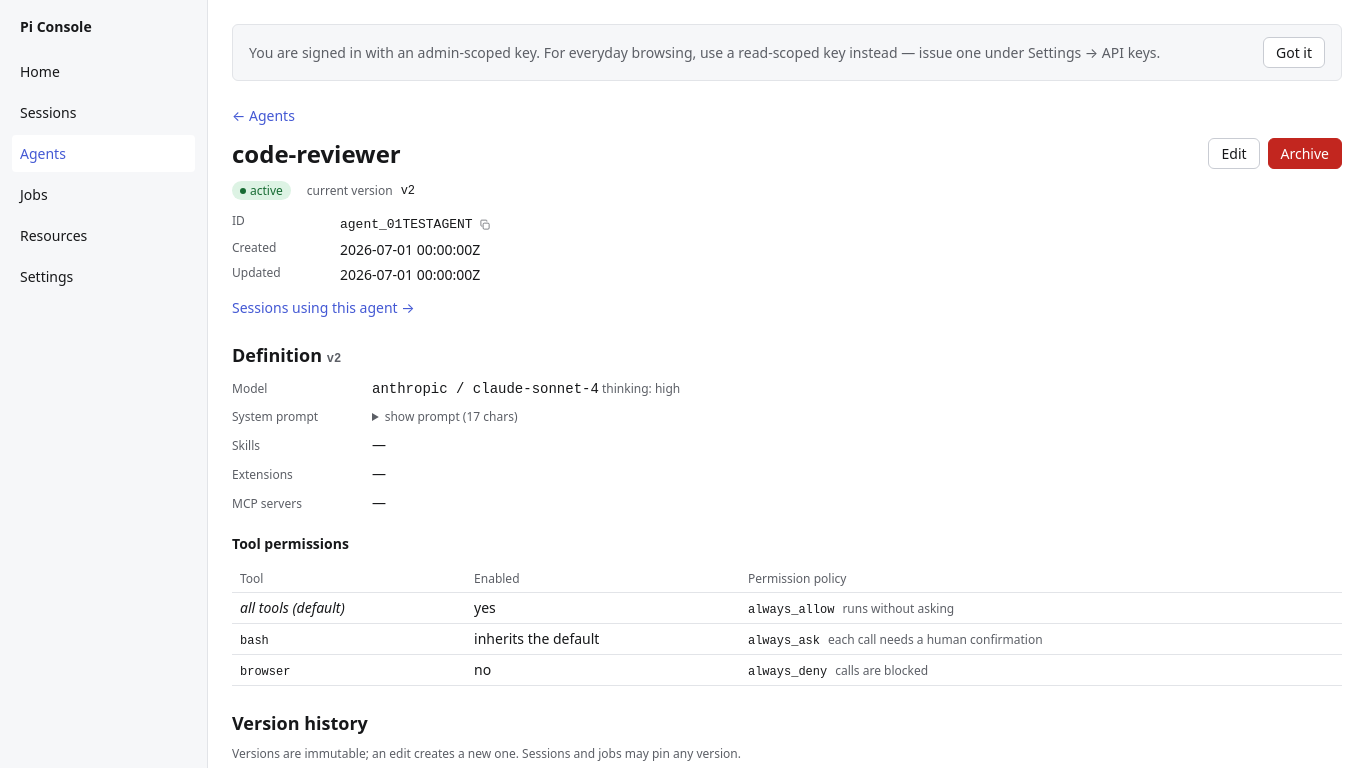
Scenario: agent detail (§9.1, W10/W16) › archive: DP-7 dialog names the real consequence — the count of scheduled jobs auto-archived
Expected: the heading "code-reviewer" is shown, [232,138,401,169]
Step 1. Click the button "Archive" → click(1305, 154), box [1268,138,1342,169]
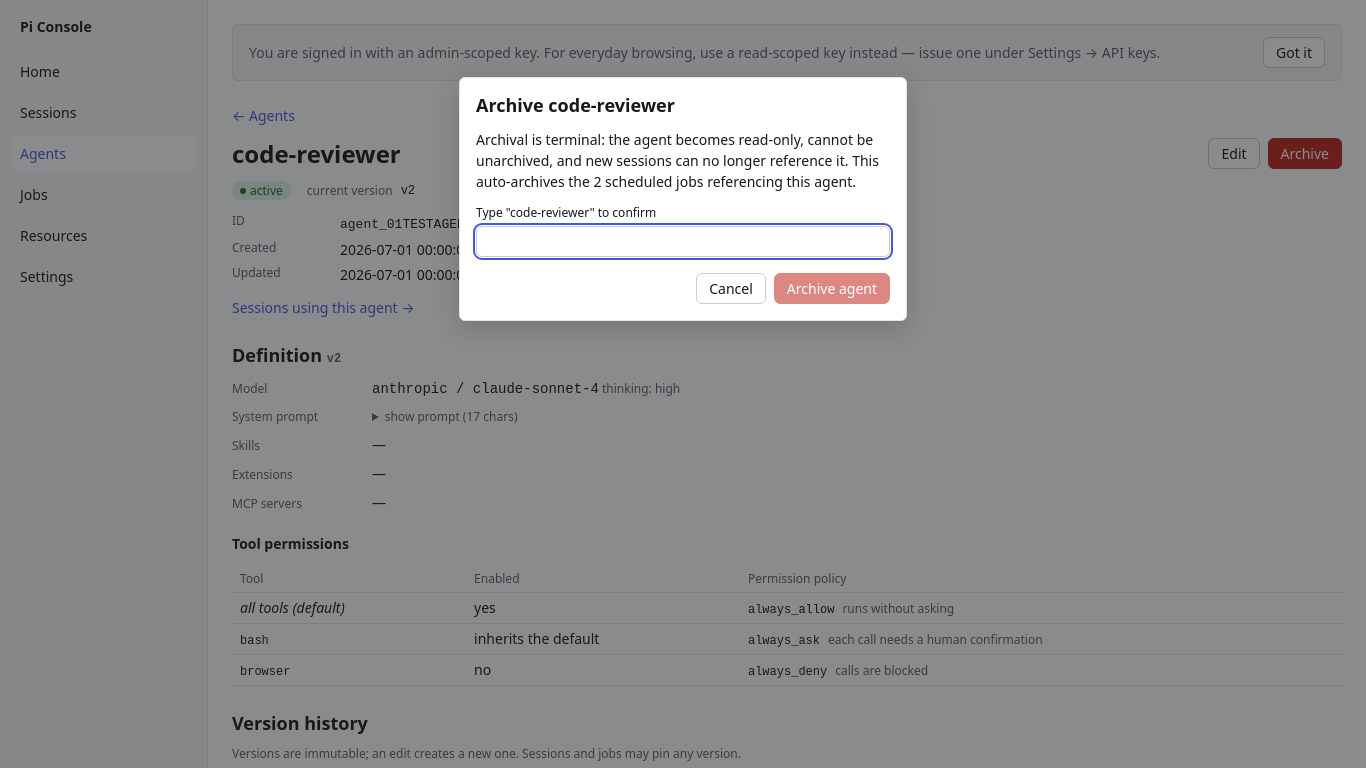
Now the text "Archival is terminal" is shown, box [476,130,879,191]
Now the button "Archive agent" is disabled, box [774,273,890,304]
Step 2. Type "code-reviewer" into the field labelled "Type \"code-reviewer\" to confirm" → (683, 242), box [476,226,890,257]
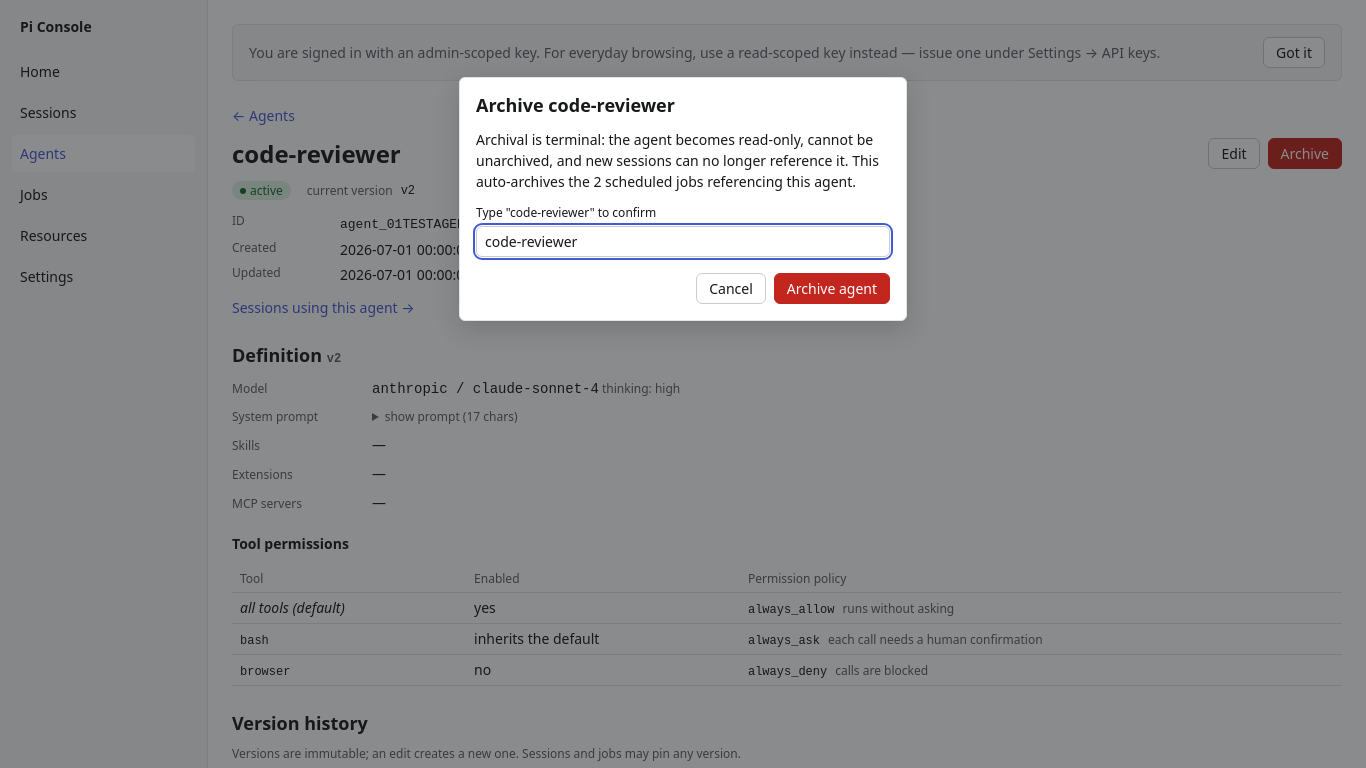
Now the button "Archive agent" is enabled
Step 3. Click the button "Archive agent" → click(832, 289), box [774,273,890,304]
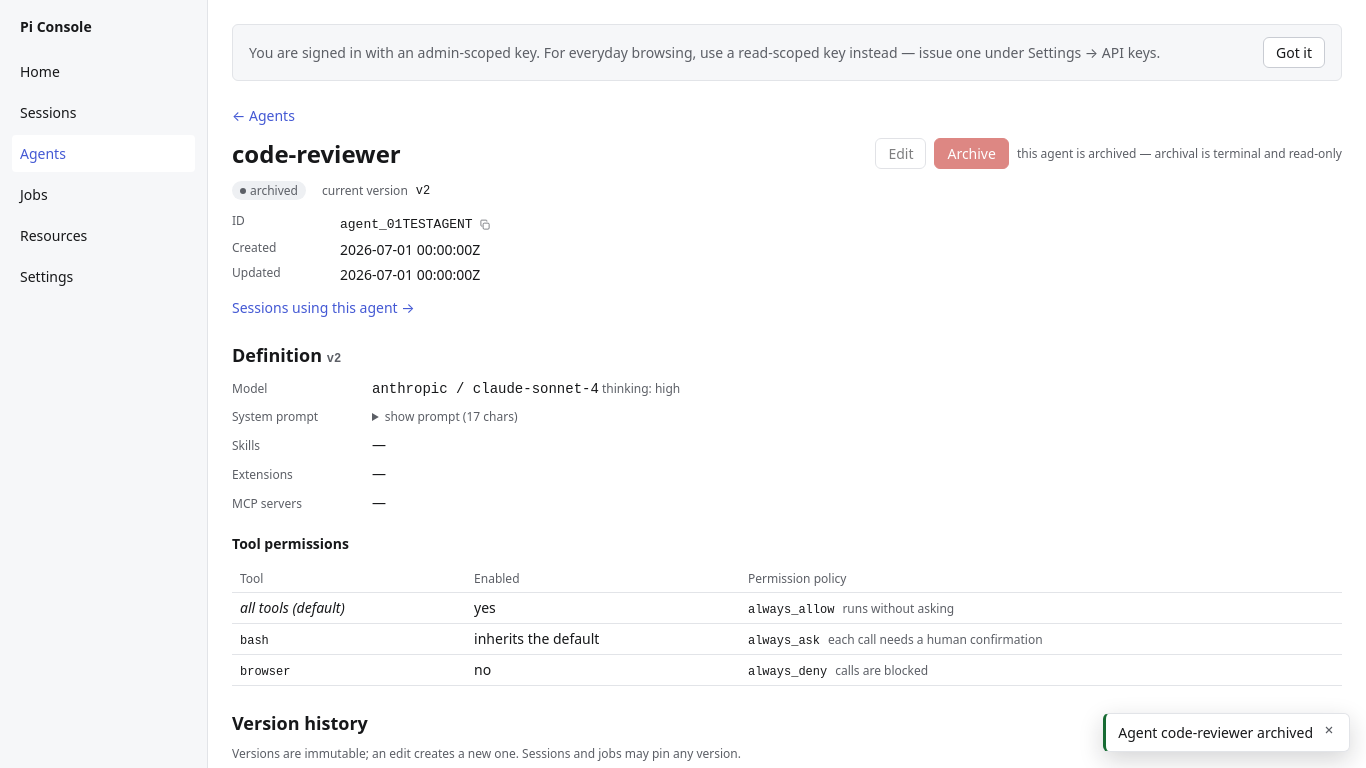
Now the text "archived" is shown, box [232,181,306,200]
Now the button "Edit" is disabled, box [875,138,926,169]
